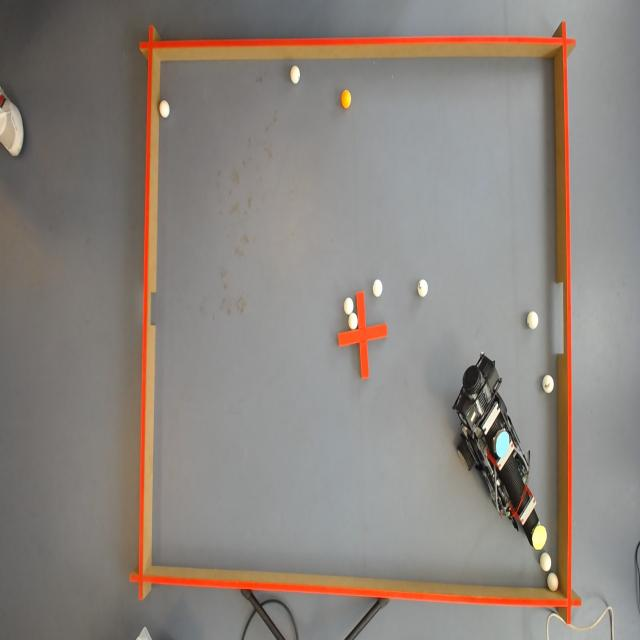orange: (341, 90, 352, 110)
robot: (451, 349, 549, 552)
robot-front: (532, 523, 547, 550)
robot-rear: (494, 427, 510, 456)
white: (158, 100, 172, 120), (548, 572, 560, 593), (290, 64, 302, 84), (540, 551, 550, 572), (344, 296, 354, 315), (543, 374, 554, 390), (527, 312, 538, 328), (372, 280, 382, 296), (347, 314, 357, 330), (418, 280, 427, 295)
